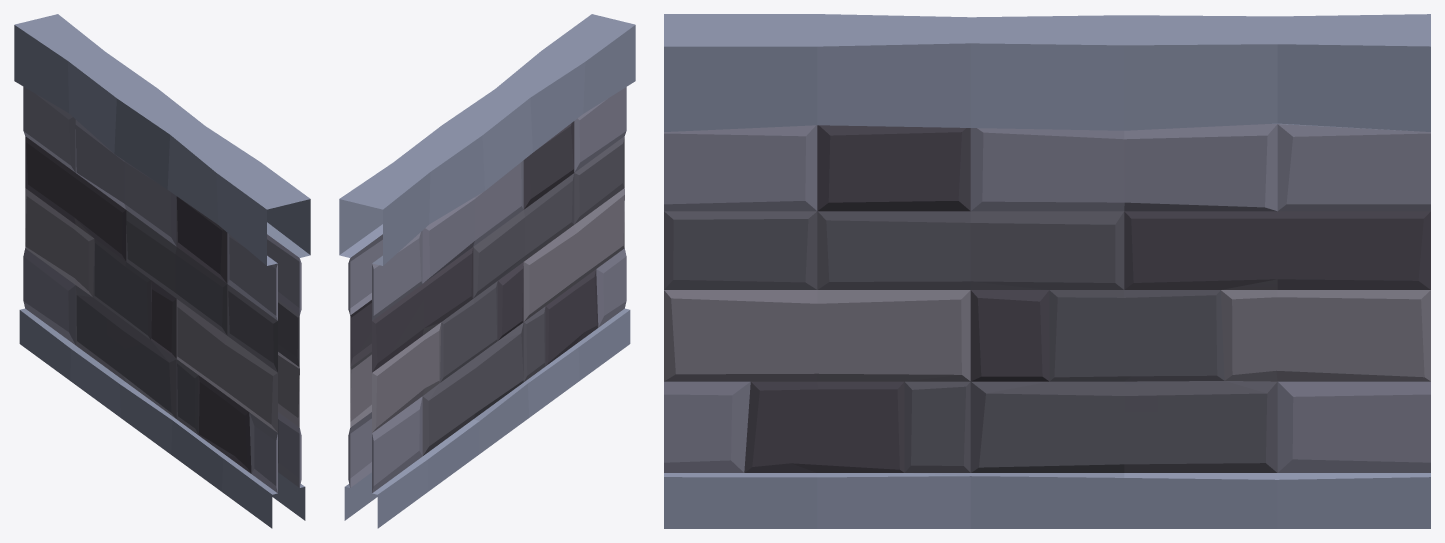
Rendered from wall.fbx.
3 views of the same model, side by side, from view 1: azimuth 30°, elevation 25°; view 2: azimuth 150°, elevation 25°; view 3: azimuth 270°, elevation 25° (orthographic). The views are drawn at different scales.
Visible parts, largest first — view 1: wall; view 2: wall; view 3: wall.
Boxes of the visible parts, left/top/right/bottom form: wall: left=14, top=14, right=310, bottom=528; wall: left=339, top=14, right=635, bottom=528; wall: left=664, top=14, right=1430, bottom=528.
Bounding box in the file's own units: 62.56 × 420 × 600.
